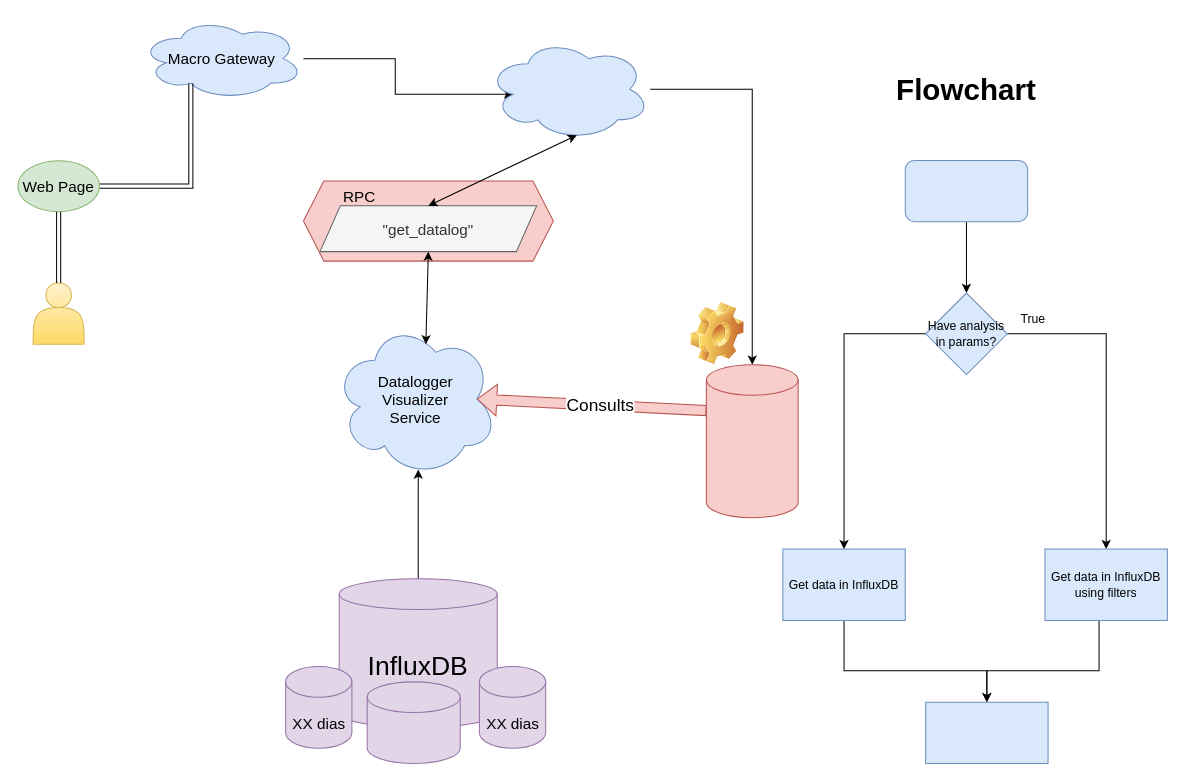
Image size: 1185x781. Some labels were removed from this diagram. Here are the shapes that lost their labels. From the top down, the centre of each, then its label:
At [568,88]: "Manager Service".
At [966,190]: "Get data".
At [751,441]: "A Postgres Equipment Sensor Users".
At [413,722]: "90 dias".
At [986,732]: "Return data".
